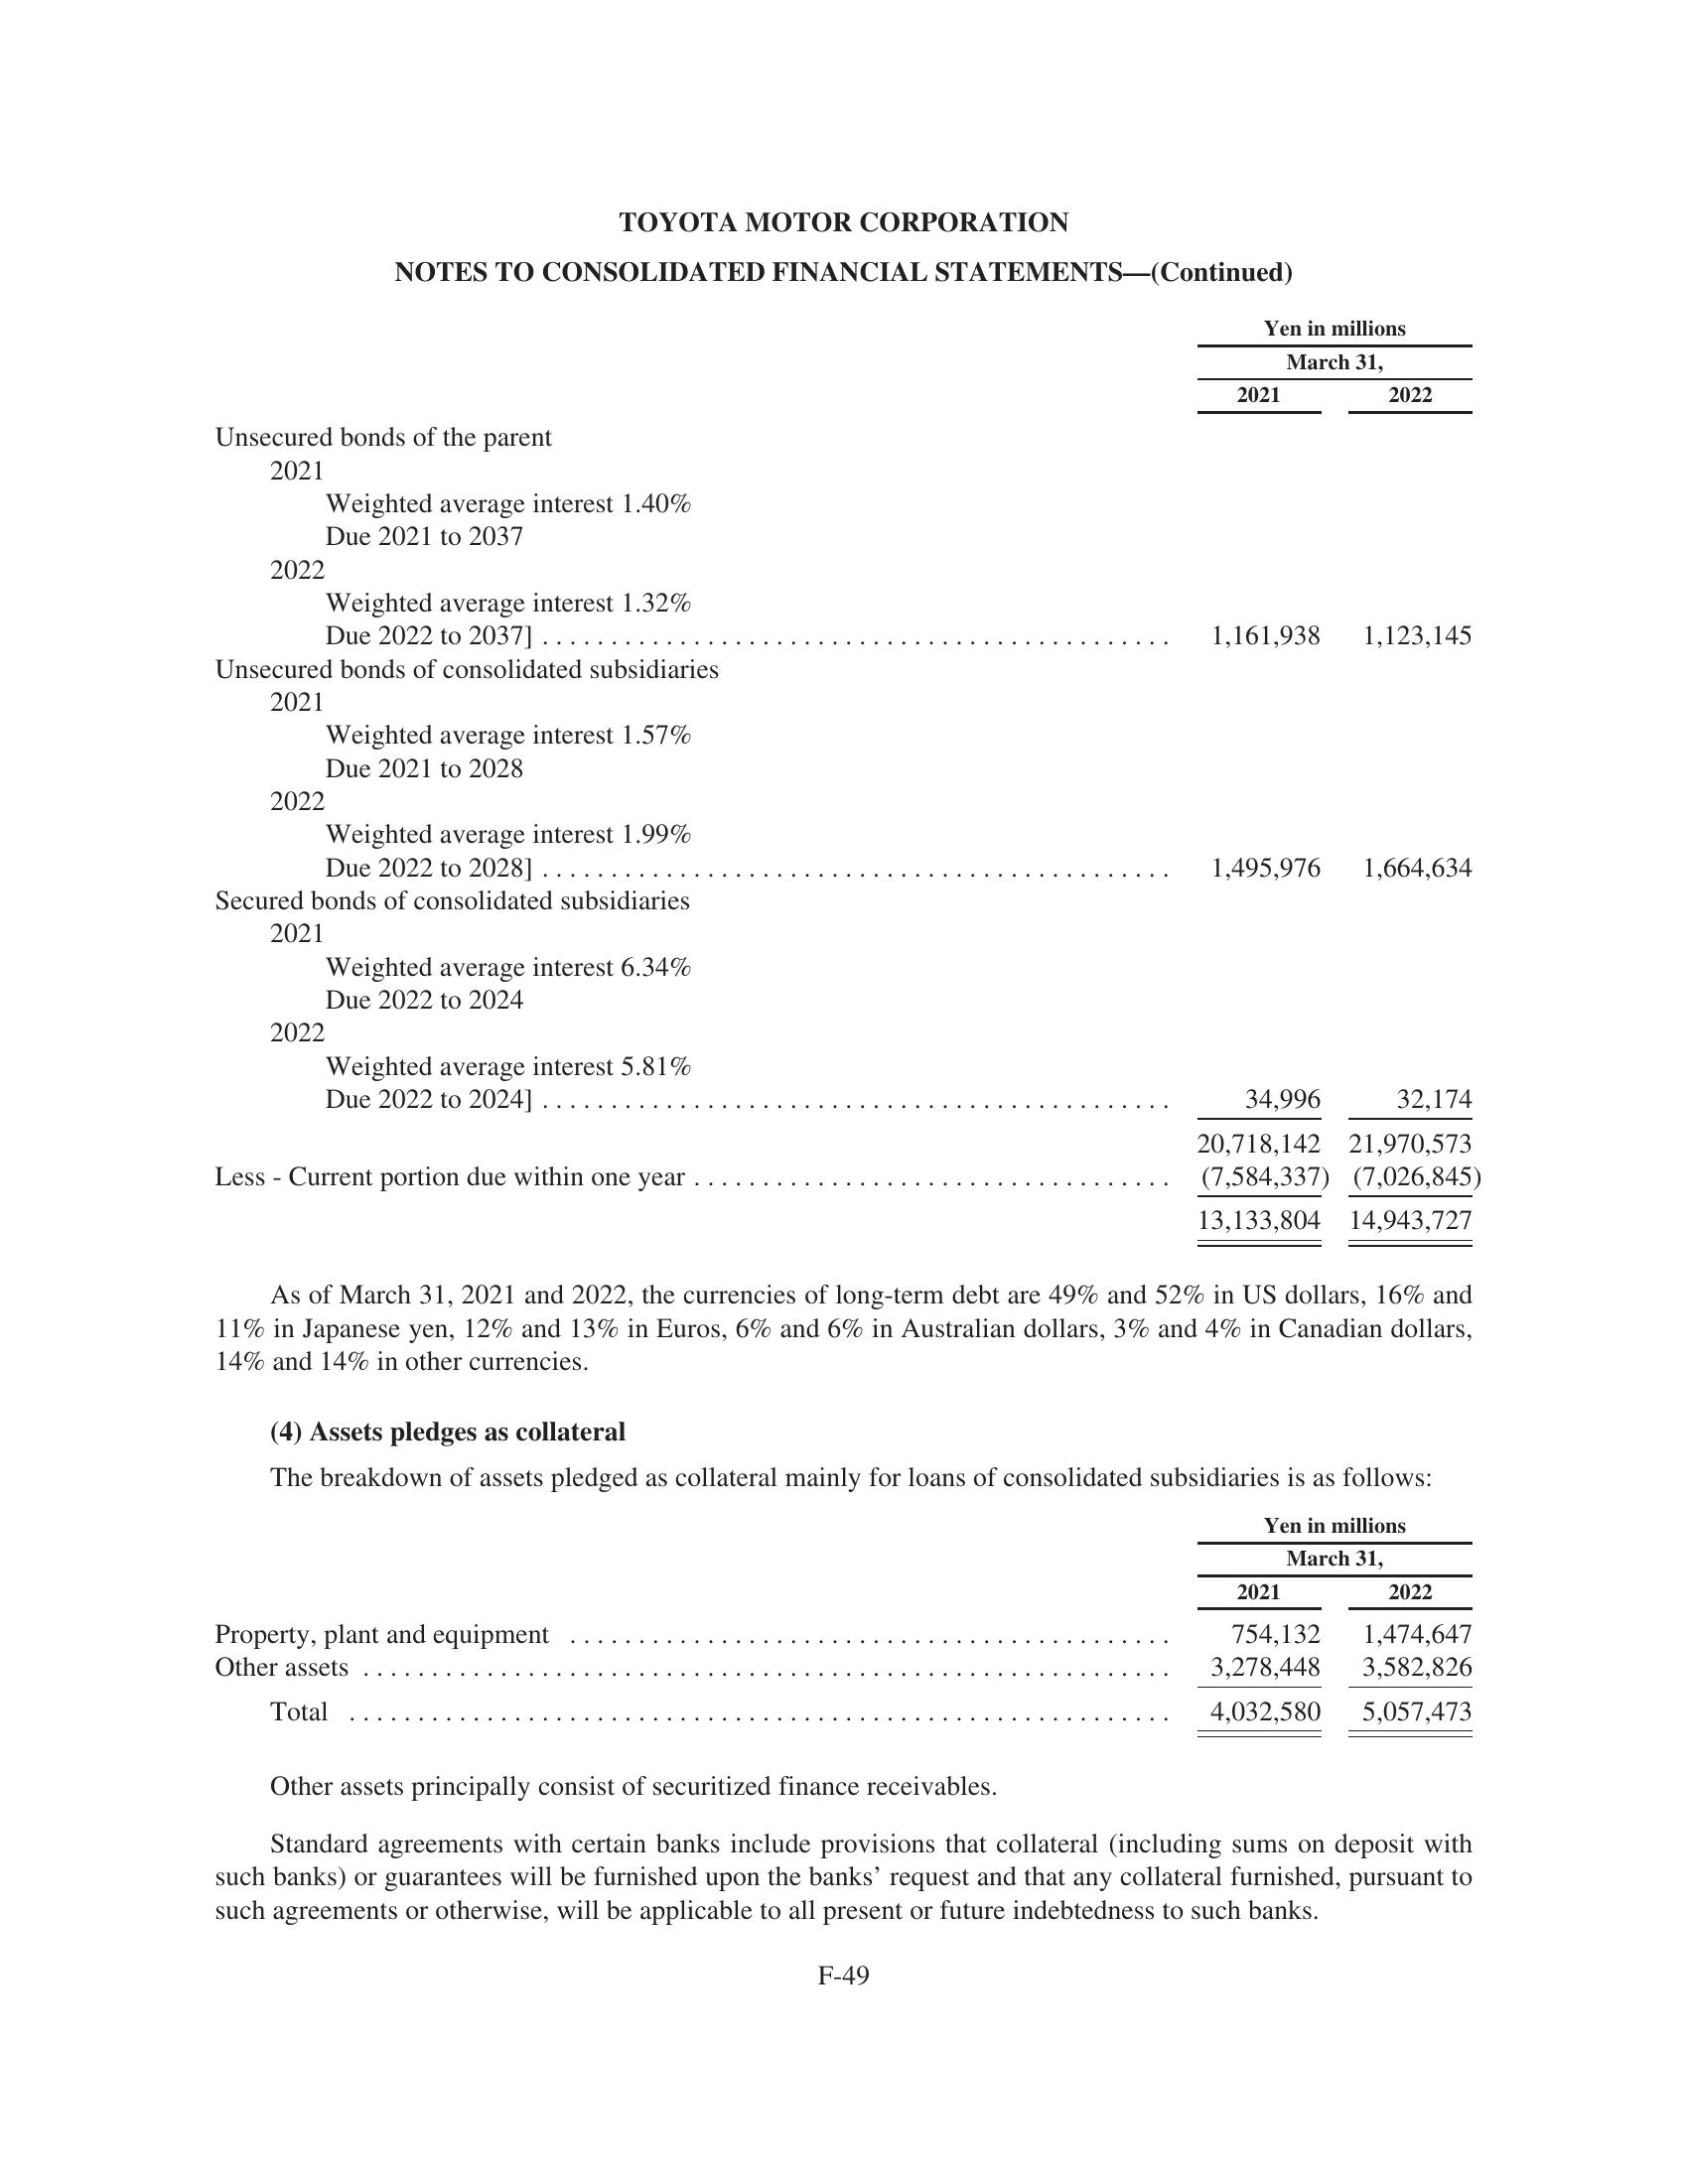Footer: (0, 1950, 1688, 2184)
Header: (0, 0, 1688, 179)
Table: (176, 301, 1521, 1260), (179, 1503, 1482, 1771)
